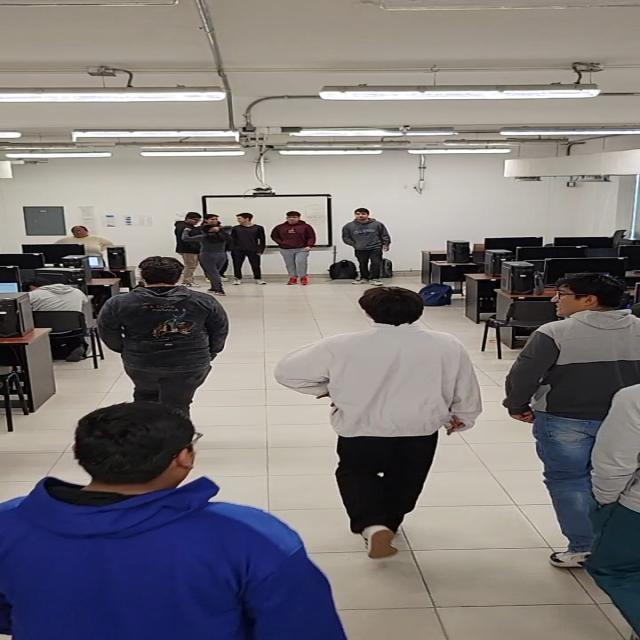Persona: (0, 401, 348, 639), (274, 286, 483, 559), (498, 271, 640, 564), (97, 256, 230, 414), (341, 207, 391, 286), (180, 225, 234, 296), (270, 210, 316, 286), (229, 212, 270, 285), (172, 212, 208, 288), (202, 211, 225, 230)
